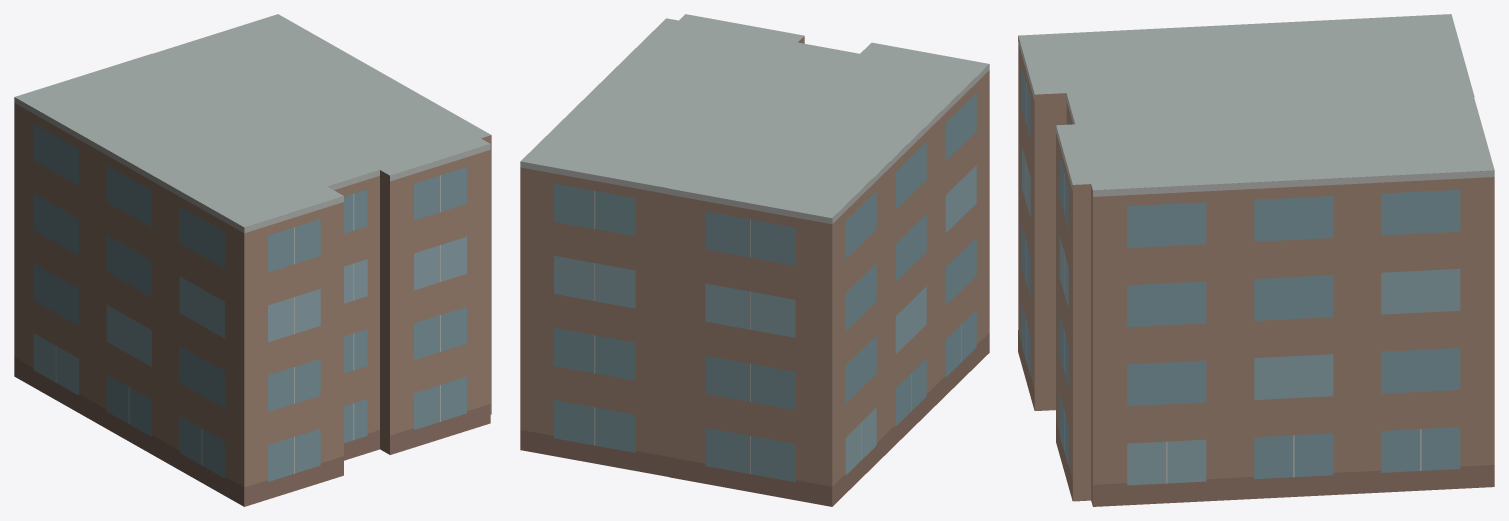
The model's file is survey-upis-32988435.glb.
3 views of the same model, side by side, from view 1: azimuth 30°, elevation 25°; view 2: azimuth 150°, elevation 25°; view 3: azimuth 270°, elevation 25° (orthographic). The views are drawn at different scales.
Parts seen in each view (by area): view 1: survey-upis-32988435.tmp; view 2: survey-upis-32988435.tmp; view 3: survey-upis-32988435.tmp.
Part boxes in pixels (box(x1,y1,x2,y2)): survey-upis-32988435.tmp: box(14, 14, 491, 506); survey-upis-32988435.tmp: box(520, 14, 989, 506); survey-upis-32988435.tmp: box(1018, 14, 1494, 506).
Size of the model in its own units: 13.99 by 11.7 by 15.97.
